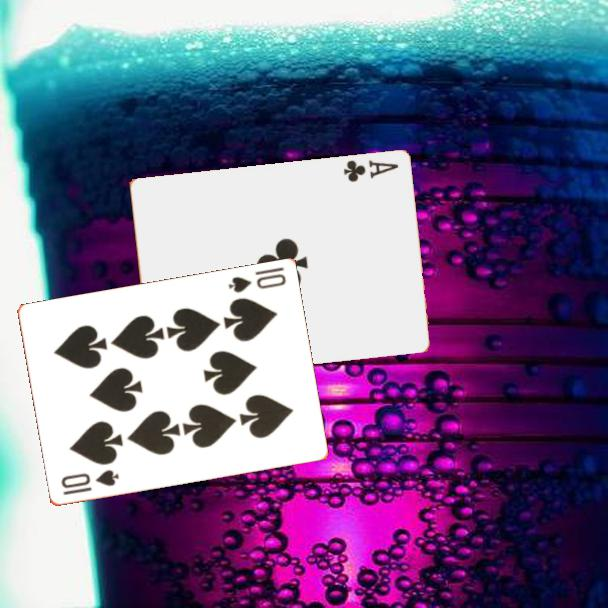c01: (340, 157, 401, 185)
s10: (57, 466, 121, 498), (225, 264, 289, 296)
